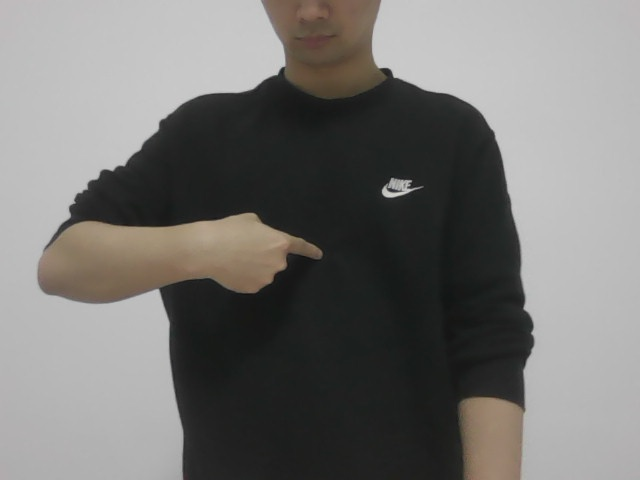I/me: (205, 205, 329, 295)
